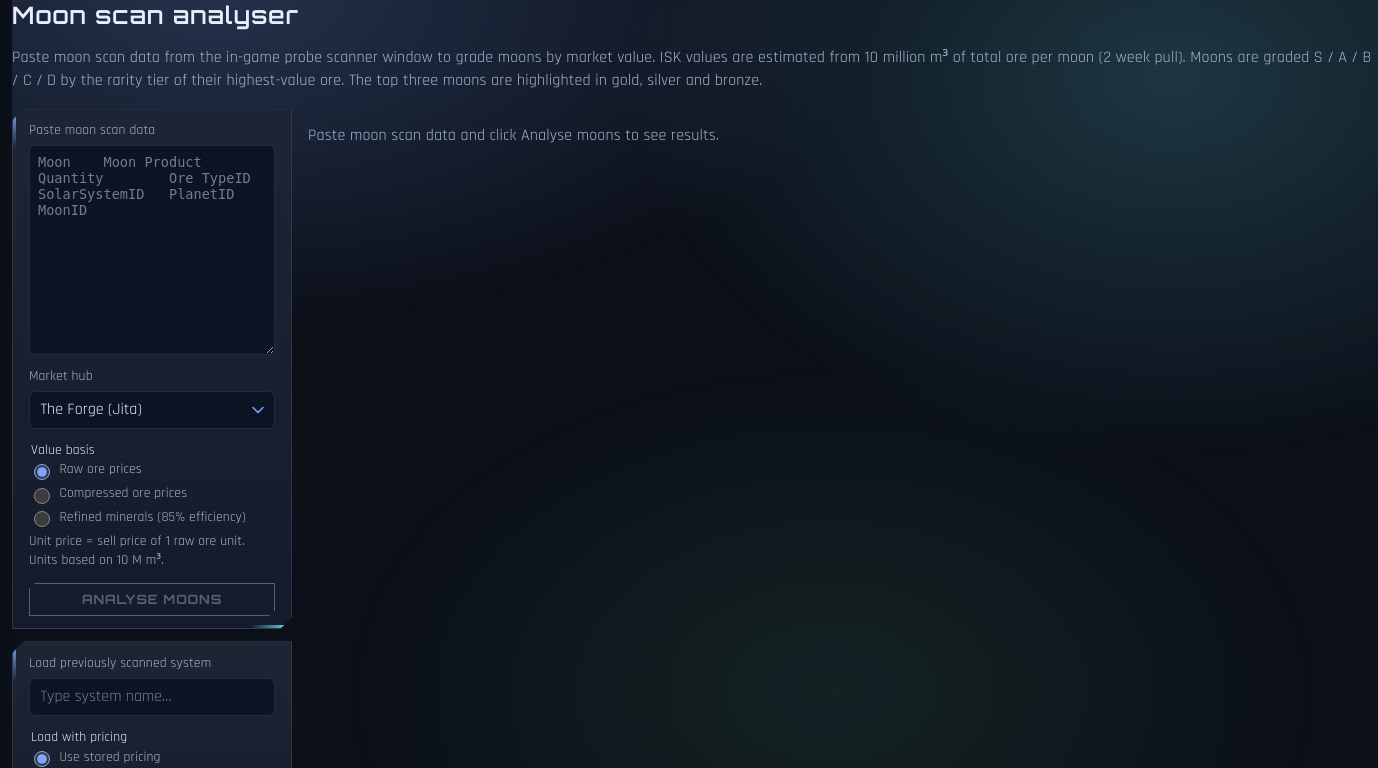
Scenario: MoonScan › finds a stored system by typing part of its name
Step 1. Type "ald" into the search field labelled "Load previously scanned system" → (152, 697), box [29,678,275,716]
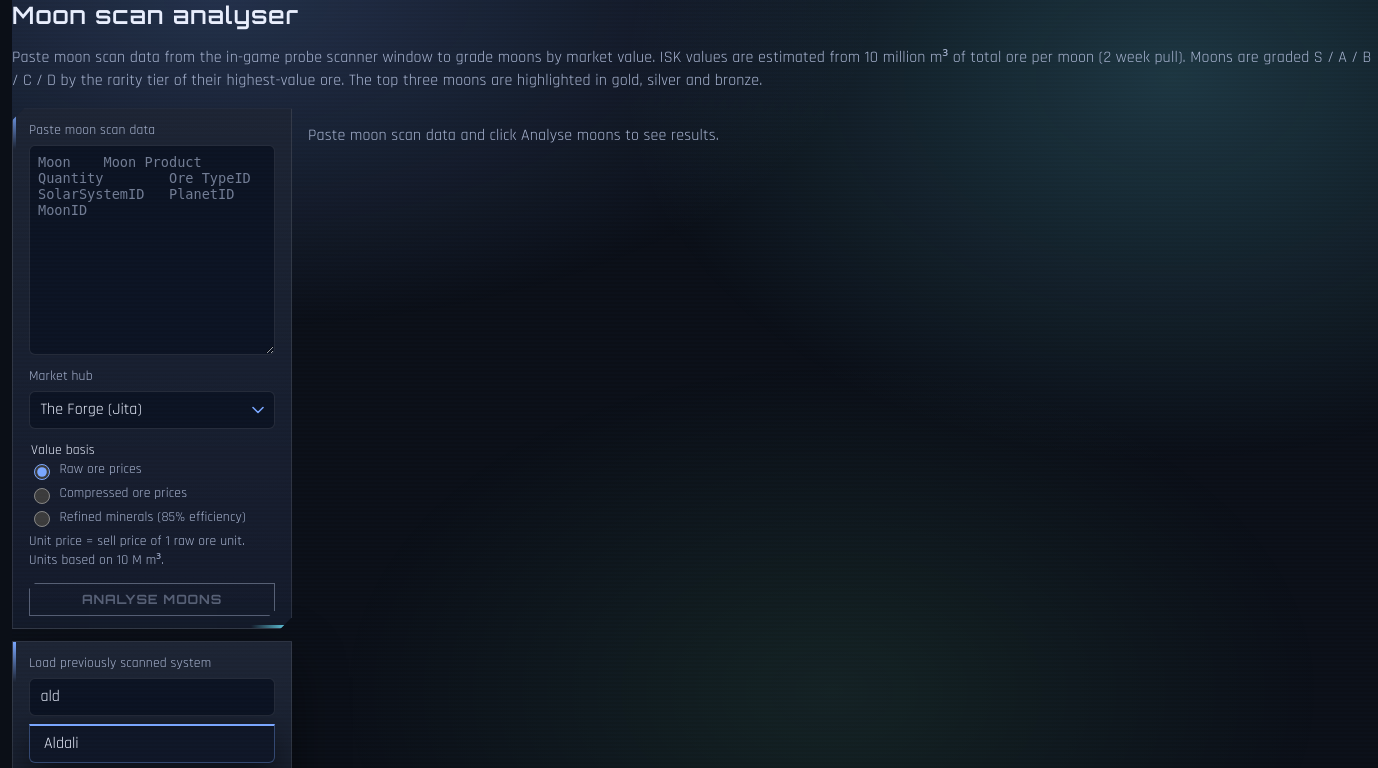
Step 2. Click the button "Aldali" → (152, 744), box [30,726,274,762]
(page scrolled)
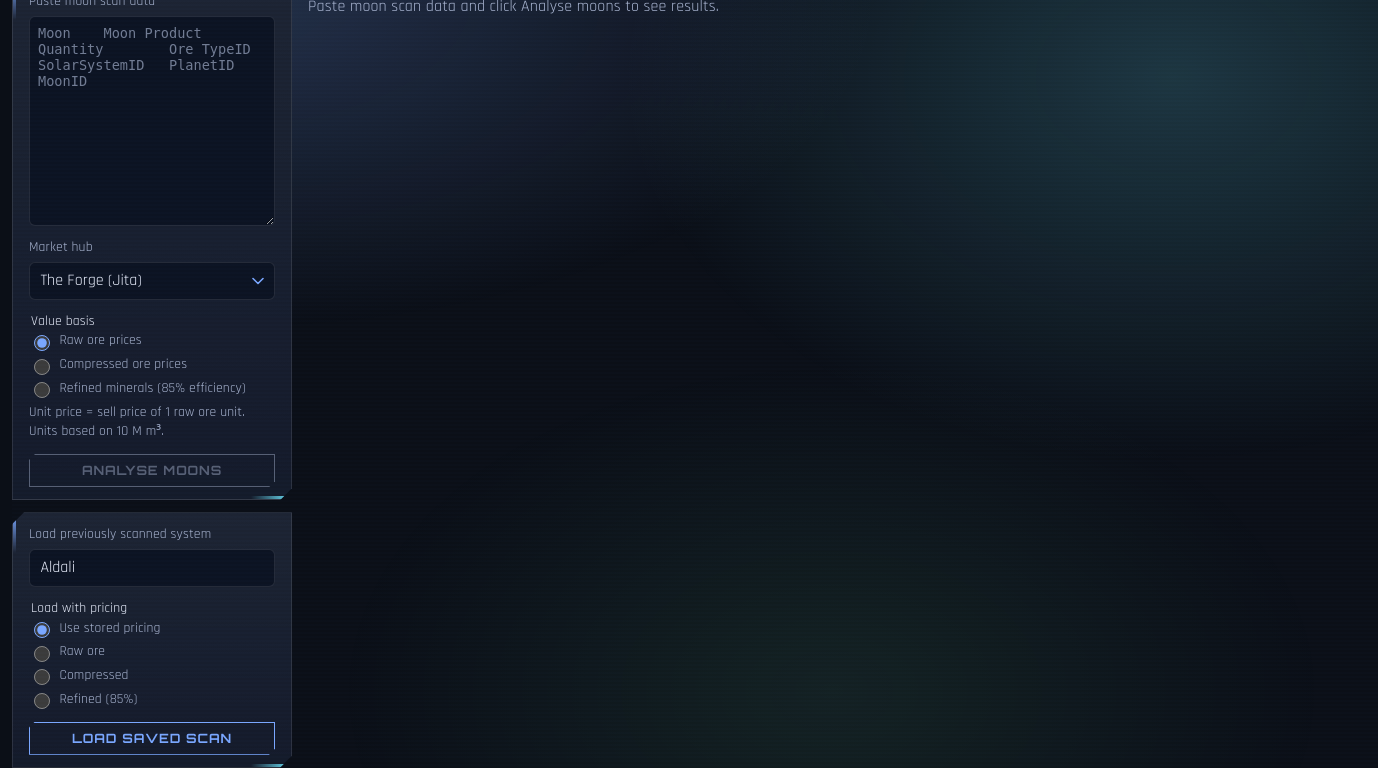
Check: the button "Load saved scan" is enabled, box [29,722,275,755]
